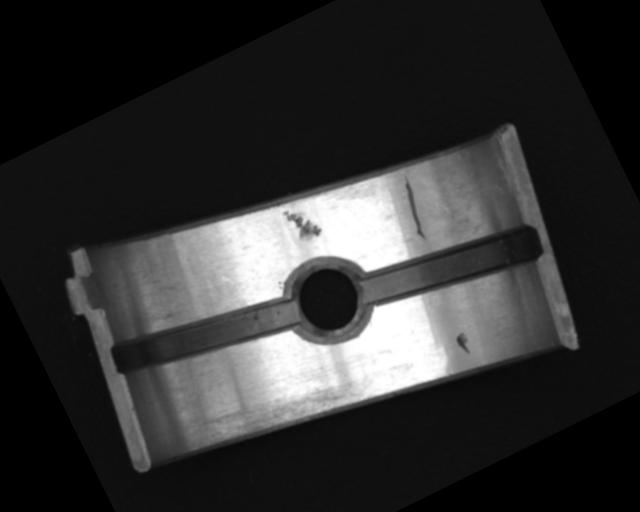bruise: (279, 199, 325, 248), (453, 329, 475, 357)
gap: (107, 266, 305, 406), (357, 202, 545, 333)
hole: (275, 247, 385, 359)
nick: (391, 172, 437, 242)
scratch: (205, 352, 371, 468)
